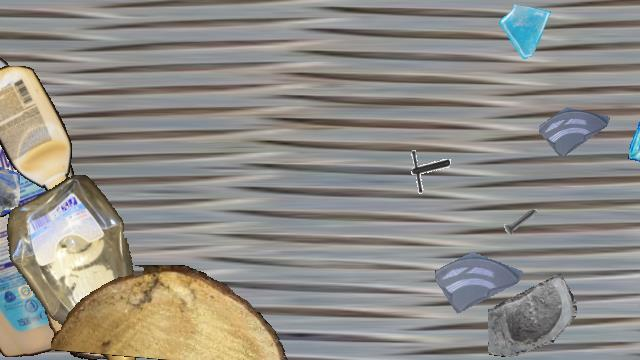glass: (488, 271, 576, 359), (435, 234, 523, 322), (539, 91, 611, 163), (498, 1, 556, 59), (0, 130, 20, 224), (626, 77, 640, 171)
metal: (41, 150, 103, 212), (402, 147, 450, 195), (500, 201, 542, 243)
plastic: (0, 1, 122, 357), (2, 175, 148, 359), (0, 66, 71, 194)
wood: (51, 265, 291, 359), (43, 253, 119, 359)
